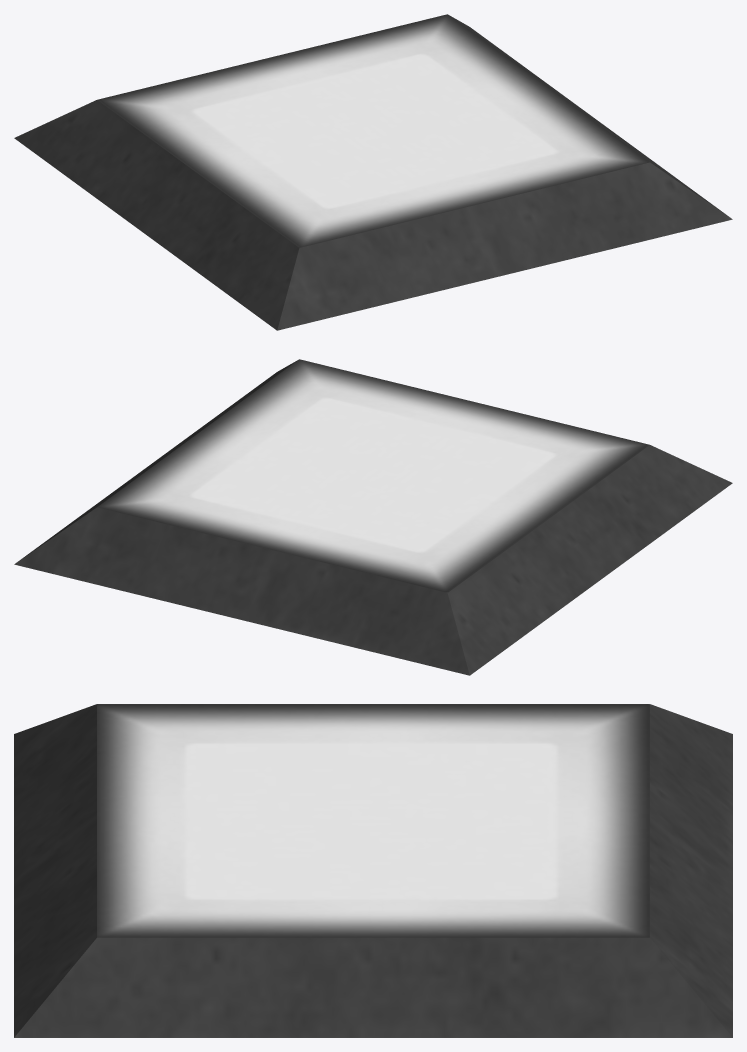
Rendered from Decor_Light_Box.FBX.
3 views of the same model, one above another, from view 1: azimuth 30°, elevation 25°; view 2: azimuth 150°, elevation 25°; view 3: azimuth 270°, elevation 25° (orthographic). The views are drawn at different scales.
Parts seen in each view (by area): view 1: Decor_Light_Box; view 2: Decor_Light_Box; view 3: Decor_Light_Box.
Part boxes in pixels (bbox=[...]): Decor_Light_Box: bbox=[14, 14, 732, 330]; Decor_Light_Box: bbox=[14, 359, 732, 675]; Decor_Light_Box: bbox=[14, 704, 732, 1037].
Size of the model in its own units: 1 by 0.1 by 1.
